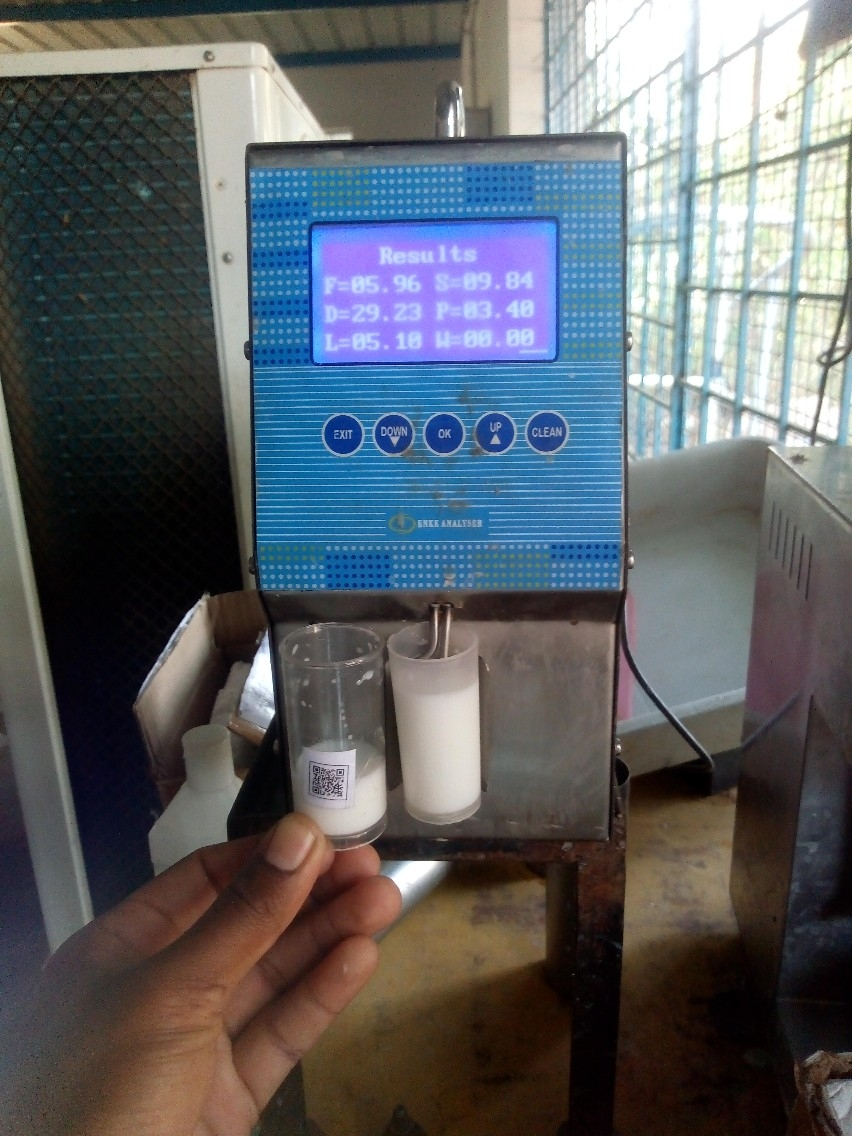lcd: (302, 219, 564, 364)
qr: (300, 756, 355, 811)
